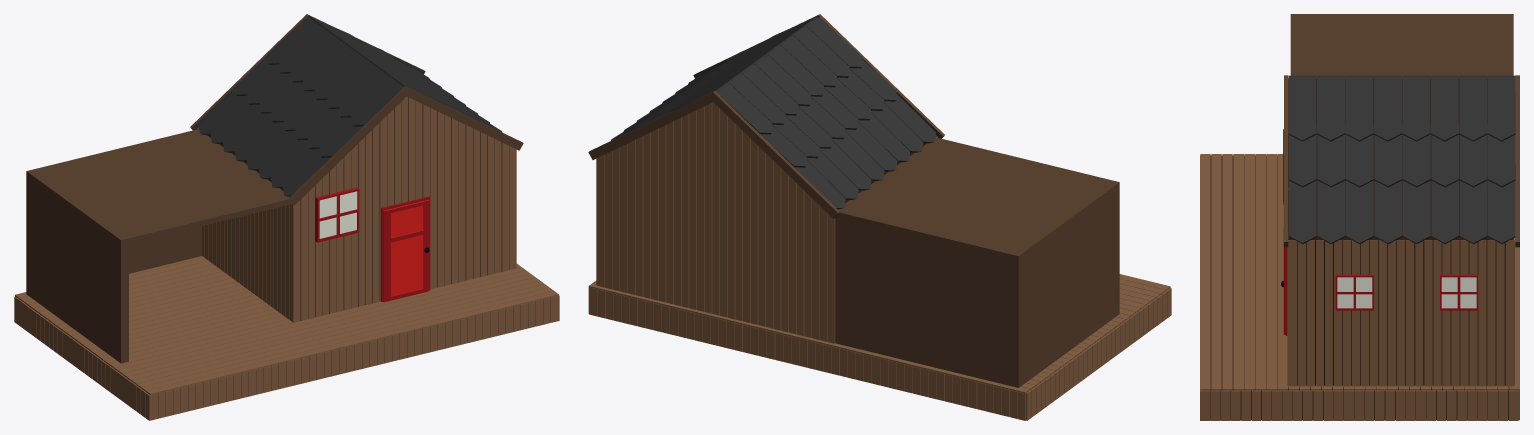
The model's file is House.fbx.
3 views of the same model, side by side, from view 1: azimuth 30°, elevation 25°; view 2: azimuth 150°, elevation 25°; view 3: azimuth 270°, elevation 25° (orthographic). The views are drawn at different scales.
Parts seen in each view (by area): view 1: Ground_Border, House_Border, Side_Roof, Roof, Door, House, Window; view 2: Side_Roof, House_Border, Roof, Ground_Border; view 3: Roof, Ground_Border, House_Border, Side_Roof, House, Ground, Window.001, Window.002, Door.
Part boxes in pixels (left/top/right/bottom): Ground_Border: left=14, top=256, right=559, bottom=420; House_Border: left=197, top=96, right=516, bottom=322; Side_Roof: left=26, top=129, right=291, bottom=363; Roof: left=190, top=14, right=523, bottom=205; Door: left=381, top=196, right=430, bottom=302; House: left=199, top=97, right=501, bottom=320; Window: left=315, top=187, right=359, bottom=242; Side_Roof: left=835, top=137, right=1119, bottom=387; House_Border: left=596, top=102, right=937, bottom=343; Roof: left=588, top=14, right=944, bottom=218; Ground_Border: left=588, top=274, right=1171, bottom=420; Roof: left=1284, top=75, right=1519, bottom=247; Ground_Border: left=1200, top=154, right=1519, bottom=420; House_Border: left=1287, top=189, right=1514, bottom=387; Side_Roof: left=1290, top=14, right=1513, bottom=78; House: left=1288, top=78, right=1513, bottom=385; Ground: left=1210, top=156, right=1509, bottom=420; Window.001: left=1335, top=274, right=1373, bottom=310; Window.002: left=1440, top=274, right=1478, bottom=310; Door: left=1281, top=201, right=1287, bottom=335.
Size of the model in its own units: 1691 by 930 by 968.
